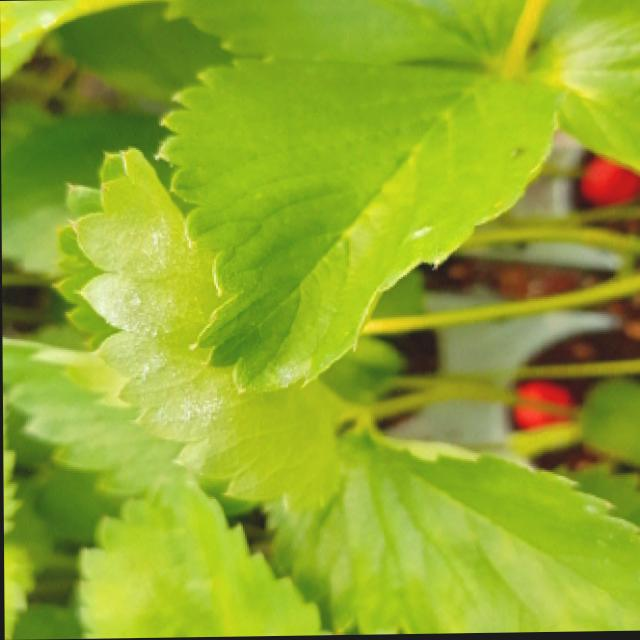Powdery Mildew Leaf: (153, 52, 571, 395), (50, 144, 366, 517)
